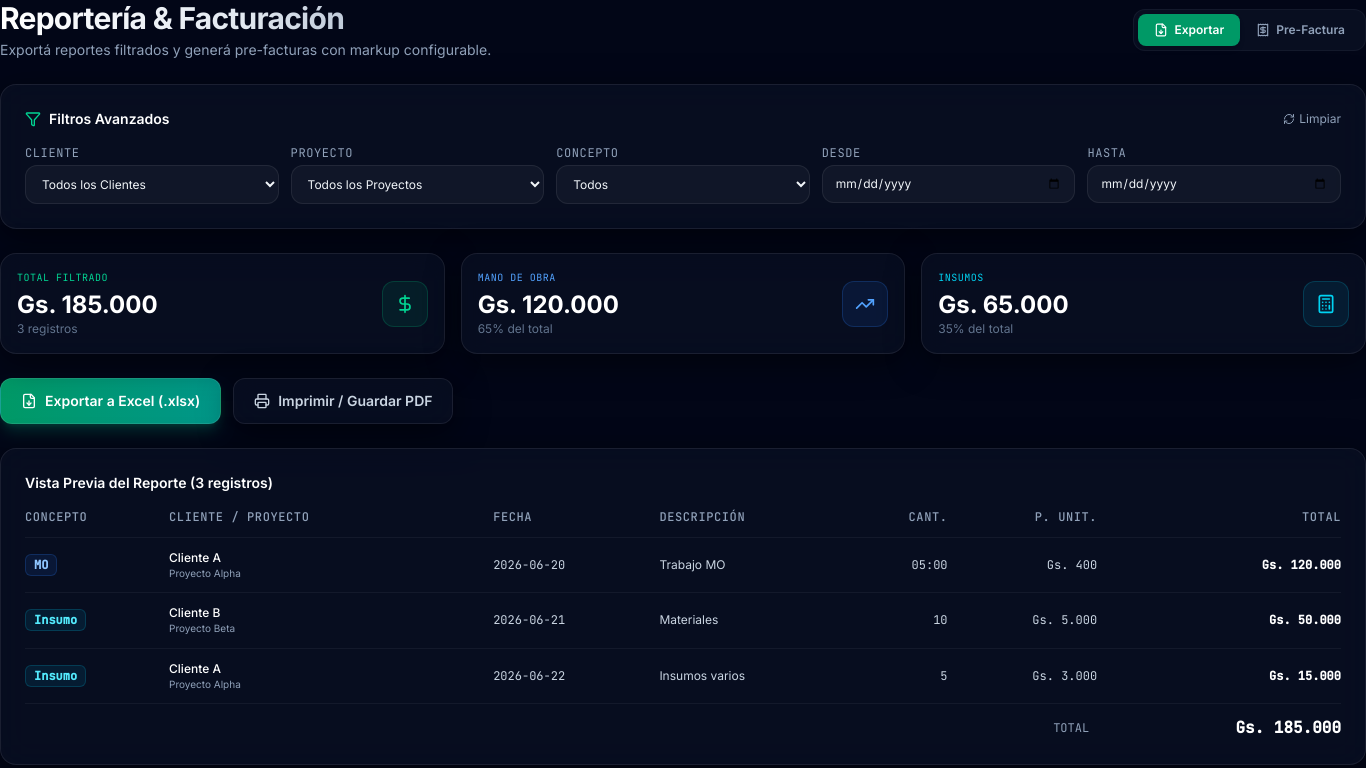
Test: Reportes › Filters › should filter registros by cliente
The width and height of the screenshot is (1366, 768).
// Get cliente select (first combobox)
Select "Cliente A" in the 1st dropdown at (152, 184), box [25,165,279,204]
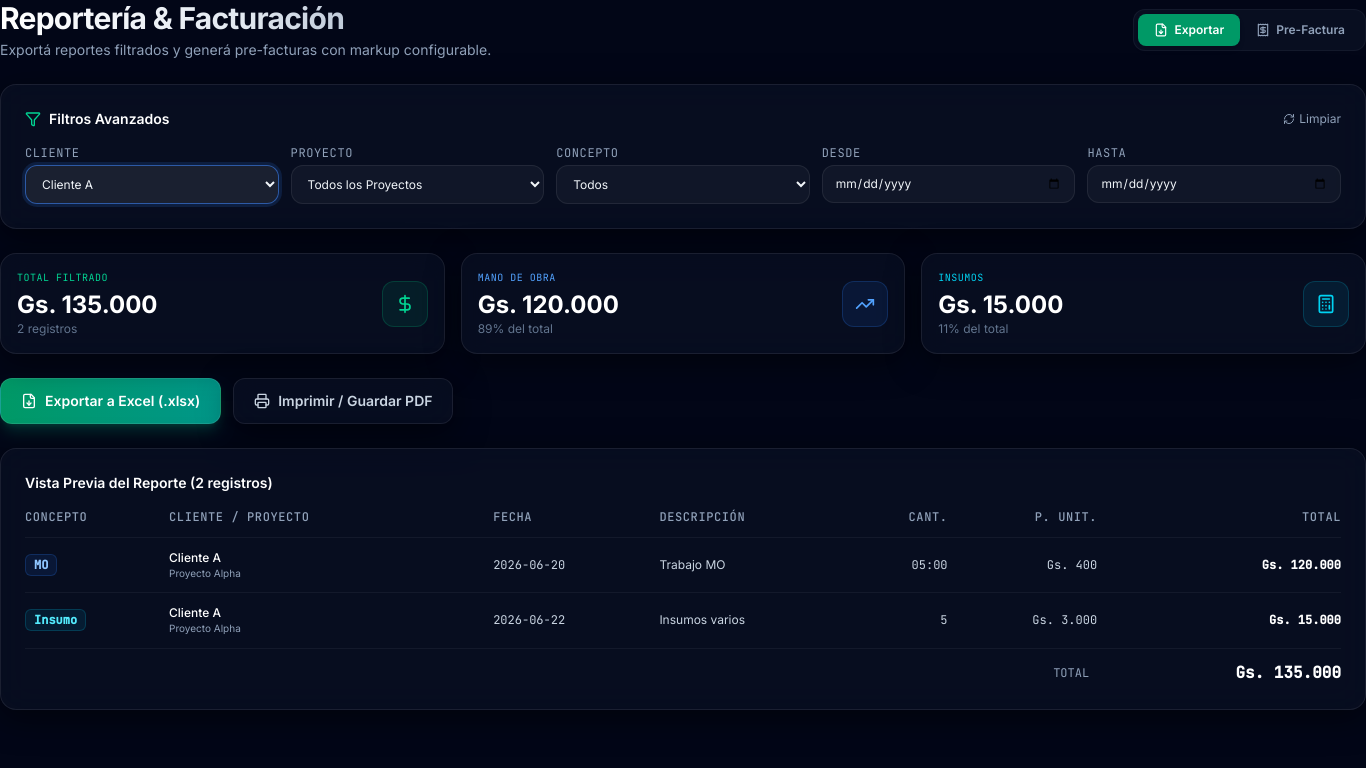
Expected: the text "Gs. 135.000" is shown, [17,289,158,321]
